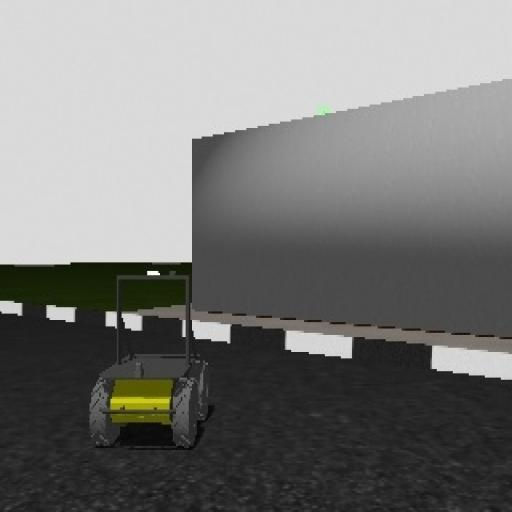huskya200: (77, 259, 211, 479)
